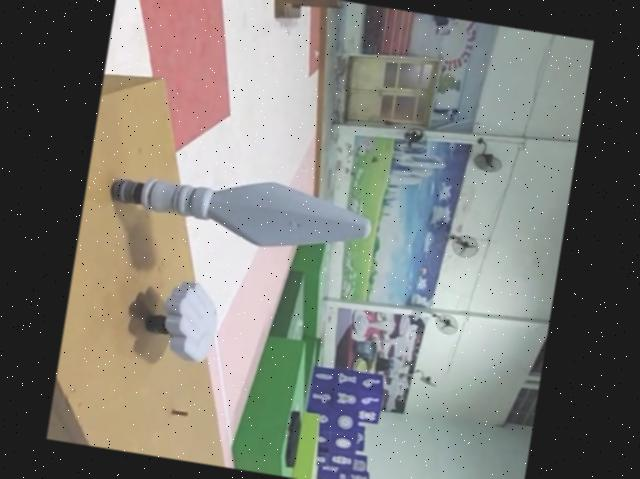Hand: (140, 273, 225, 366)
Sph: (104, 154, 378, 264)
